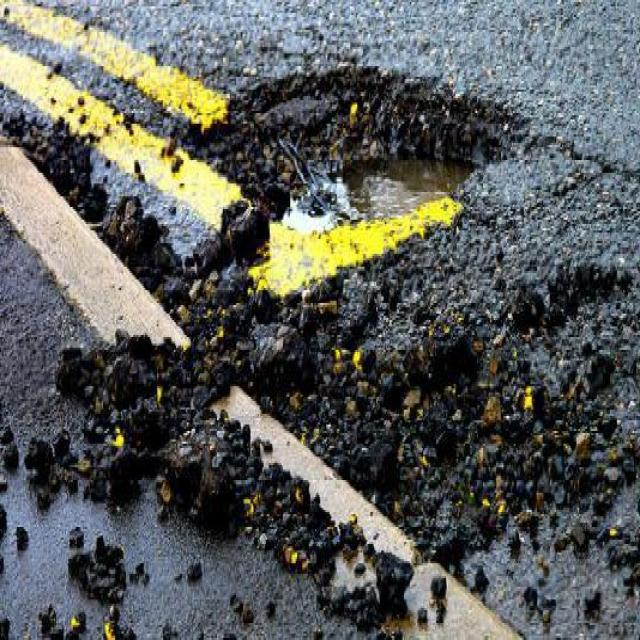Pothole: (183, 59, 532, 219)
